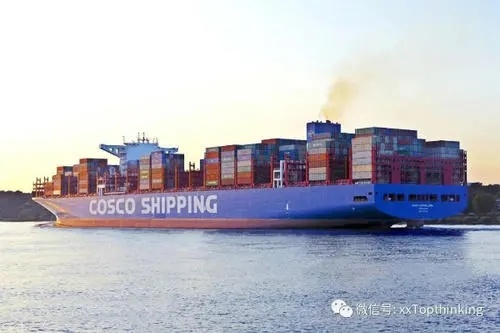Cargoship: (27, 116, 470, 228)
